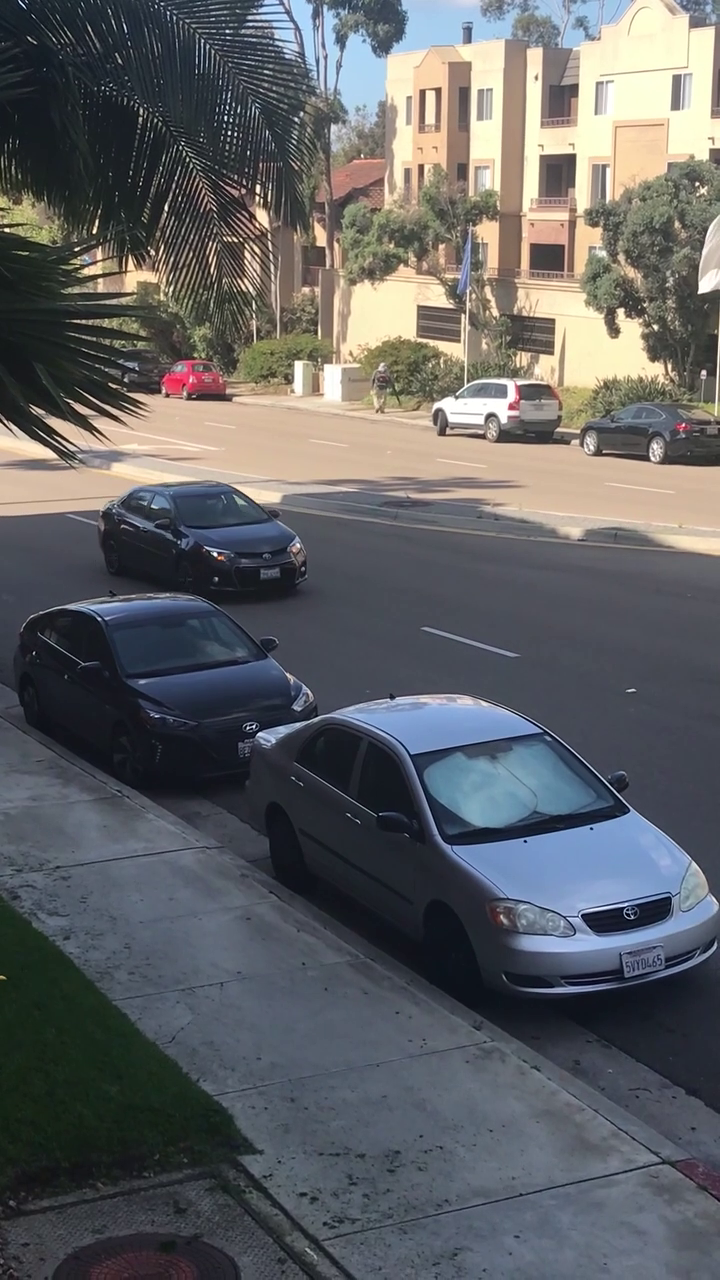car: (234, 689, 708, 1019), (95, 485, 309, 613)
